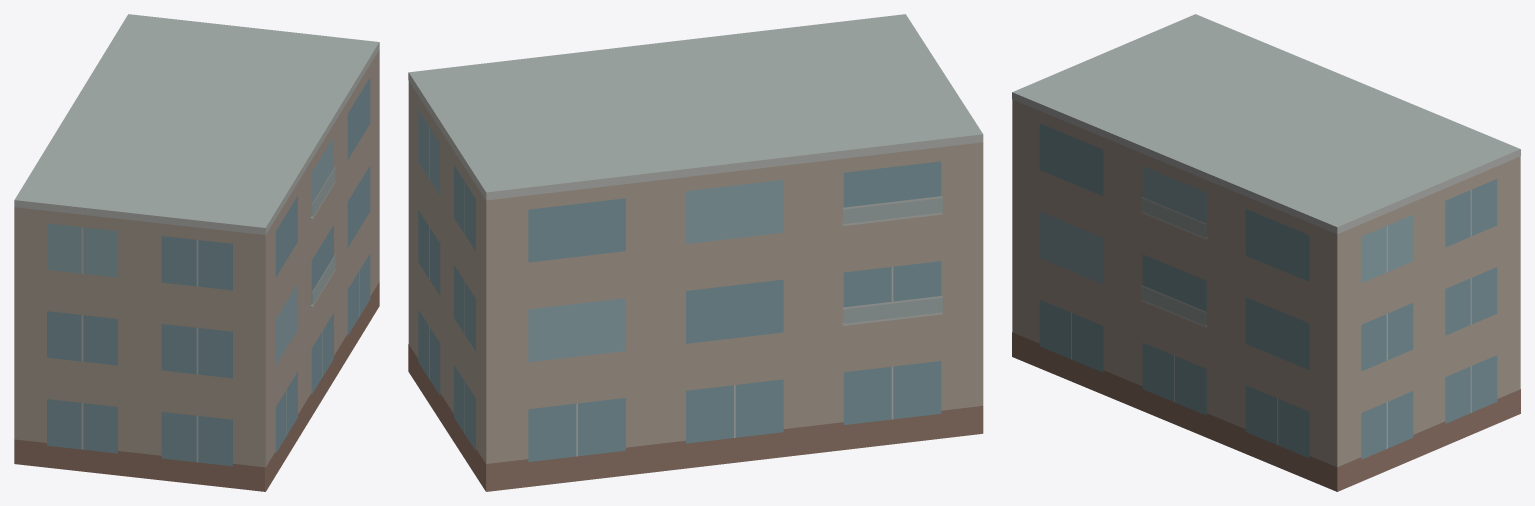
The model's file is survey-upis-32717479.glb.
The picture shows the model from 3 angles, left to right: view 1: azimuth 30°, elevation 25°; view 2: azimuth 150°, elevation 25°; view 3: azimuth 270°, elevation 25°; orthographic projection. The views are drawn at different scales.
Parts seen in each view (by area): view 1: survey-upis-32717479.tmp; view 2: survey-upis-32717479.tmp; view 3: survey-upis-32717479.tmp.
Part boxes in pixels (bbox=[...]): survey-upis-32717479.tmp: bbox=[14, 14, 379, 491]; survey-upis-32717479.tmp: bbox=[408, 14, 983, 491]; survey-upis-32717479.tmp: bbox=[1012, 14, 1520, 491].
Size of the model in its own units: 15.83 by 9.15 by 15.95.
